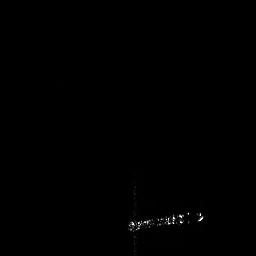ship: (129, 184, 207, 256)
